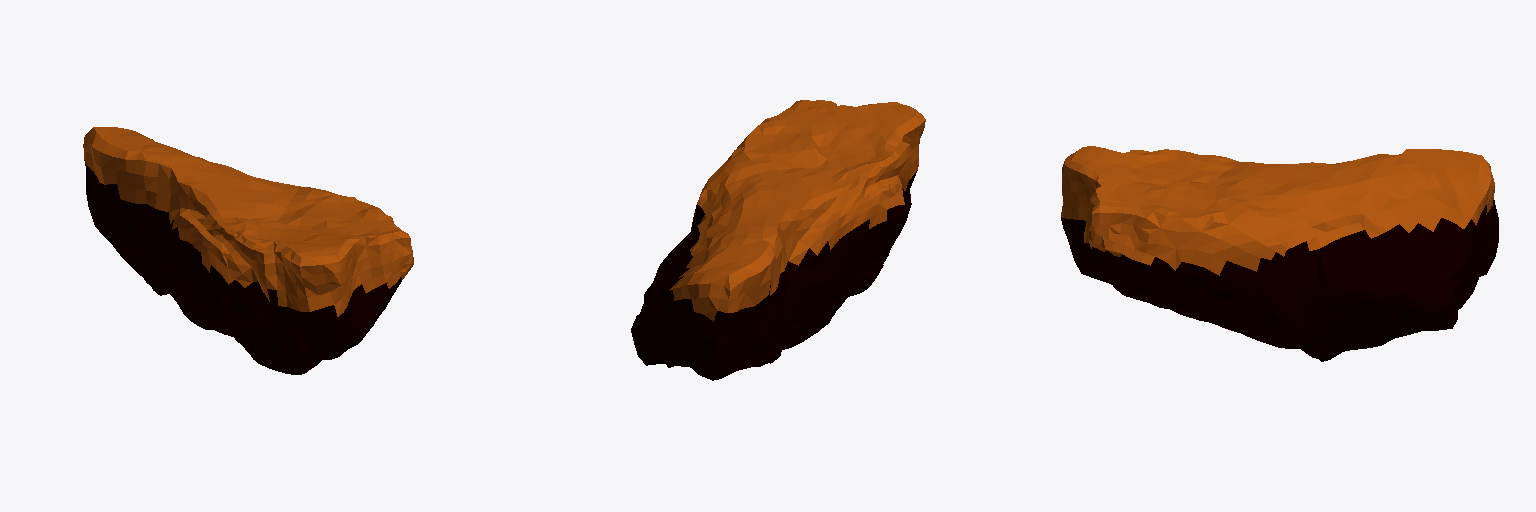
Rendered from PlatformerStone.obj.
The picture shows the model from 3 angles: view 1: azimuth 30°, elevation 25°; view 2: azimuth 150°, elevation 25°; view 3: azimuth 270°, elevation 25°; orthographic projection.
Parts seen in each view (by area): view 1: StoneTop_StoneTop, StoneBottom_StoneBottom; view 2: StoneTop_StoneTop, StoneBottom_StoneBottom; view 3: StoneTop_StoneTop, StoneBottom_StoneBottom.
Boxes of the visible parts, x1,y1,x2,y2 form: StoneTop_StoneTop: [83, 127, 413, 316]; StoneBottom_StoneBottom: [84, 160, 401, 374]; StoneTop_StoneTop: [669, 100, 925, 321]; StoneBottom_StoneBottom: [631, 170, 917, 380]; StoneTop_StoneTop: [1061, 146, 1494, 275]; StoneBottom_StoneBottom: [1061, 200, 1498, 361].
Bounding box in the file's own units: 16.96 × 16.13 × 37.98.